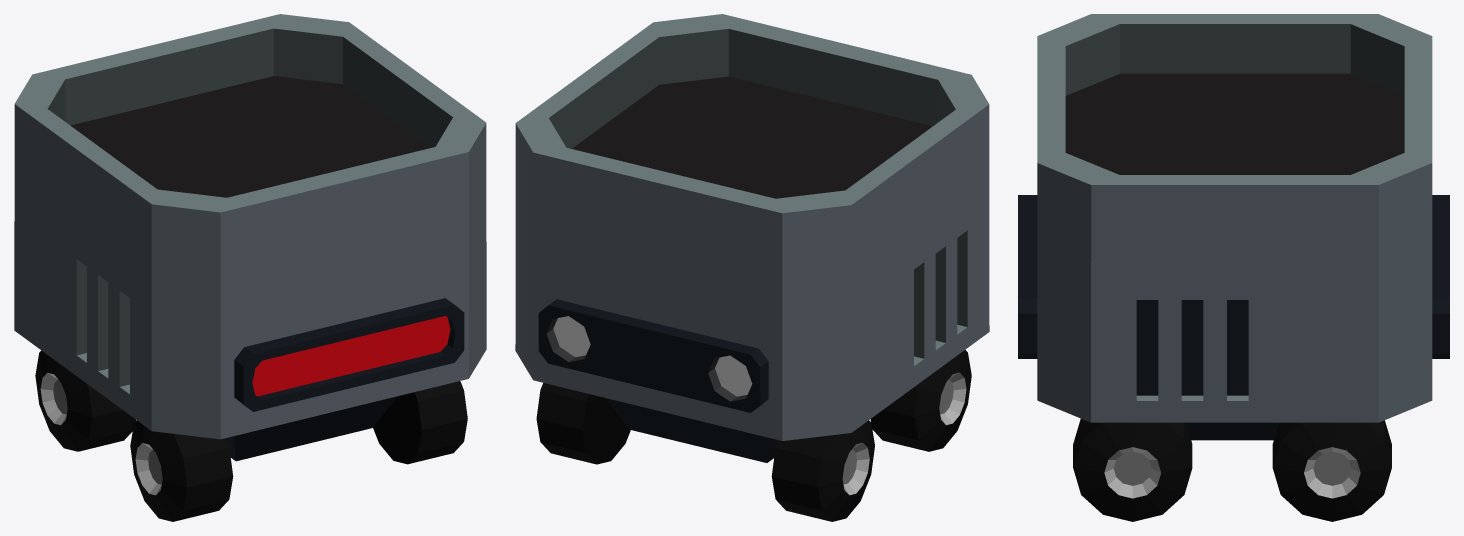
Rendered from Robot.fbx.
The picture shows the model from 3 angles, left to right: view 1: azimuth 30°, elevation 25°; view 2: azimuth 150°, elevation 25°; view 3: azimuth 270°, elevation 25°; orthographic projection. The views are drawn at different scales.
Visible parts, largest first — view 1: Robot_Mesh, Wheel_BL_Mesh, Wheel_BR_Mesh, Wheel_FL_Mesh; view 2: Robot_Mesh, Wheel_FL_Mesh, Wheel_BL_Mesh, Wheel_FR_Mesh; view 3: Robot_Mesh, Wheel_BR_Mesh, Wheel_FR_Mesh.
Boxes of the visible parts, left/top/right/bottom form: Robot_Mesh: left=14, top=14, right=486, bottom=461; Wheel_BL_Mesh: left=130, top=420, right=233, bottom=521; Wheel_BR_Mesh: left=373, top=381, right=467, bottom=464; Wheel_FL_Mesh: left=35, top=350, right=135, bottom=451; Robot_Mesh: left=515, top=14, right=989, bottom=462; Wheel_FL_Mesh: left=771, top=420, right=874, bottom=521; Wheel_BL_Mesh: left=870, top=349, right=971, bottom=451; Wheel_FR_Mesh: left=536, top=383, right=630, bottom=464; Robot_Mesh: left=1018, top=14, right=1449, bottom=440; Wheel_BR_Mesh: left=1073, top=418, right=1192, bottom=521; Wheel_FR_Mesh: left=1272, top=420, right=1391, bottom=521.
Size of the model in its own units: 91.94 by 98.07 by 87.91.
